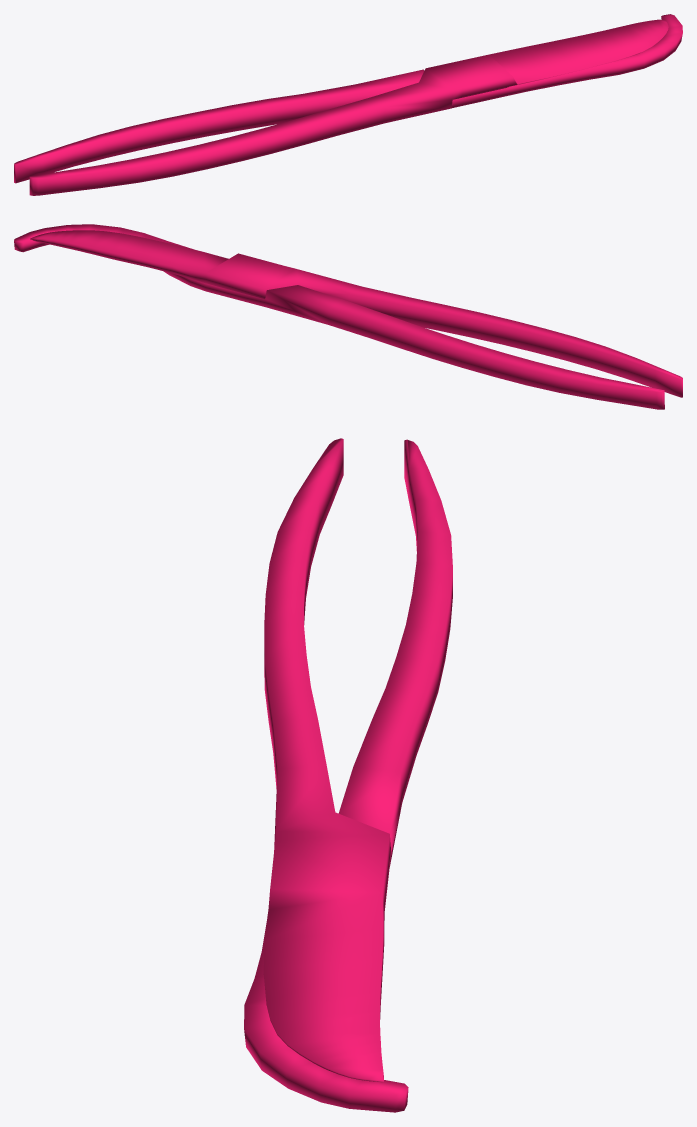
Rendered from SM_Morgue_Scissors_2.FBX.
3 renders of one model, top to bottom at view 1: azimuth 30°, elevation 25°; view 2: azimuth 150°, elevation 25°; view 3: azimuth 270°, elevation 25°, orthographic. The views are drawn at different scales.
Visible parts, largest first — view 1: Morgue_Scissors_2_element_2, Morgue_Scissors_2_element_1; view 2: Morgue_Scissors_2_element_2, Morgue_Scissors_2_element_1; view 3: Morgue_Scissors_2_element_2, Morgue_Scissors_2_element_1.
Boxes of the visible parts, box(x1,y1,x2,y2) form: Morgue_Scissors_2_element_2: box(29, 19, 668, 195); Morgue_Scissors_2_element_1: box(14, 14, 682, 183); Morgue_Scissors_2_element_2: box(30, 230, 682, 397); Morgue_Scissors_2_element_1: box(14, 224, 664, 409); Morgue_Scissors_2_element_2: box(263, 438, 391, 1082); Morgue_Scissors_2_element_1: box(244, 439, 452, 1112).
Bounding box in the file's own units: 27.75 × 0.8047 × 3.84.
